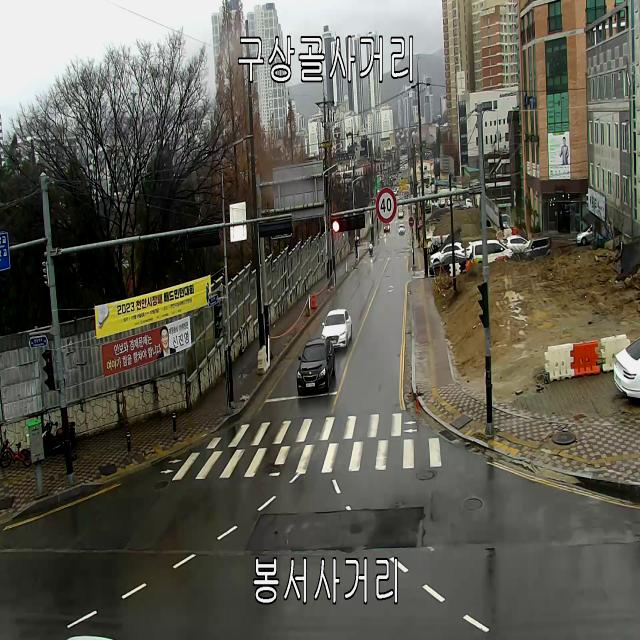Car: (296, 338, 336, 394), (613, 336, 640, 399), (321, 308, 352, 349), (472, 240, 514, 263), (429, 253, 467, 276), (430, 243, 466, 265), (576, 223, 603, 245), (524, 235, 552, 255), (504, 235, 529, 251), (426, 208, 450, 223), (466, 240, 482, 259), (454, 198, 472, 208), (437, 197, 445, 207), (398, 224, 405, 235), (384, 222, 390, 232), (398, 210, 404, 218), (425, 205, 431, 212), (448, 197, 453, 205)
Motorcycle: (367, 242, 375, 258)
